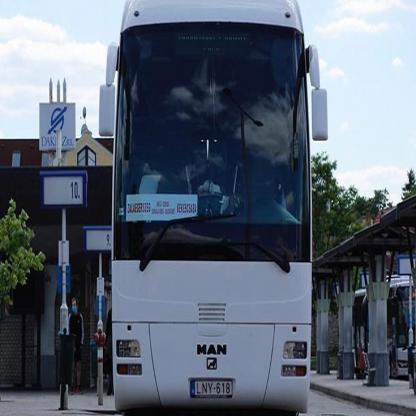Bus: (90, 0, 322, 416)
